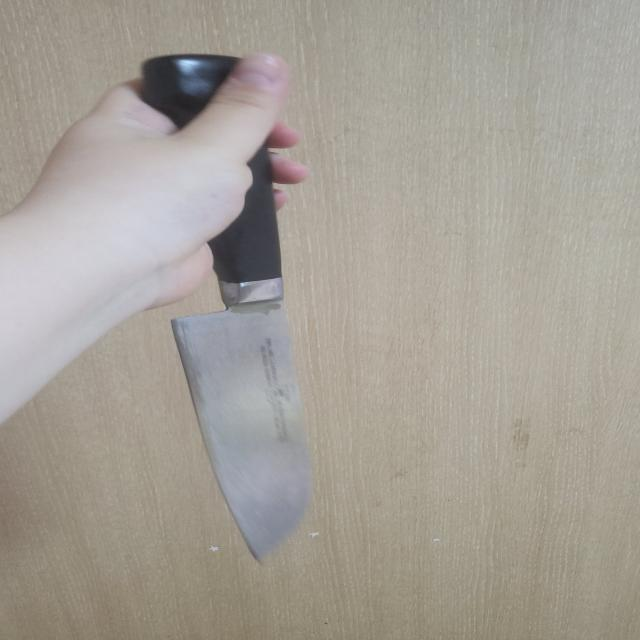knife: (141, 53, 312, 567)
